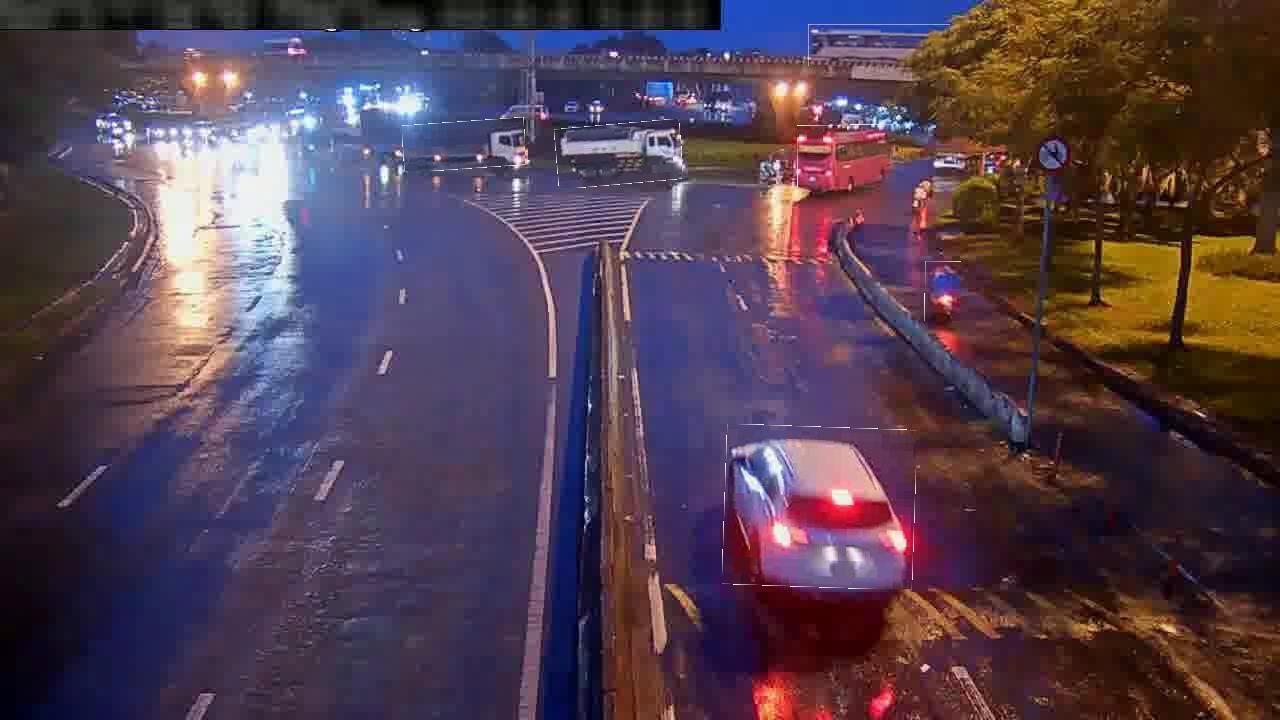14: (798, 125, 900, 192), (808, 24, 951, 67)
8: (555, 122, 682, 186), (402, 119, 526, 170)
container: (724, 426, 916, 588)
motorbike: (925, 261, 962, 322)
